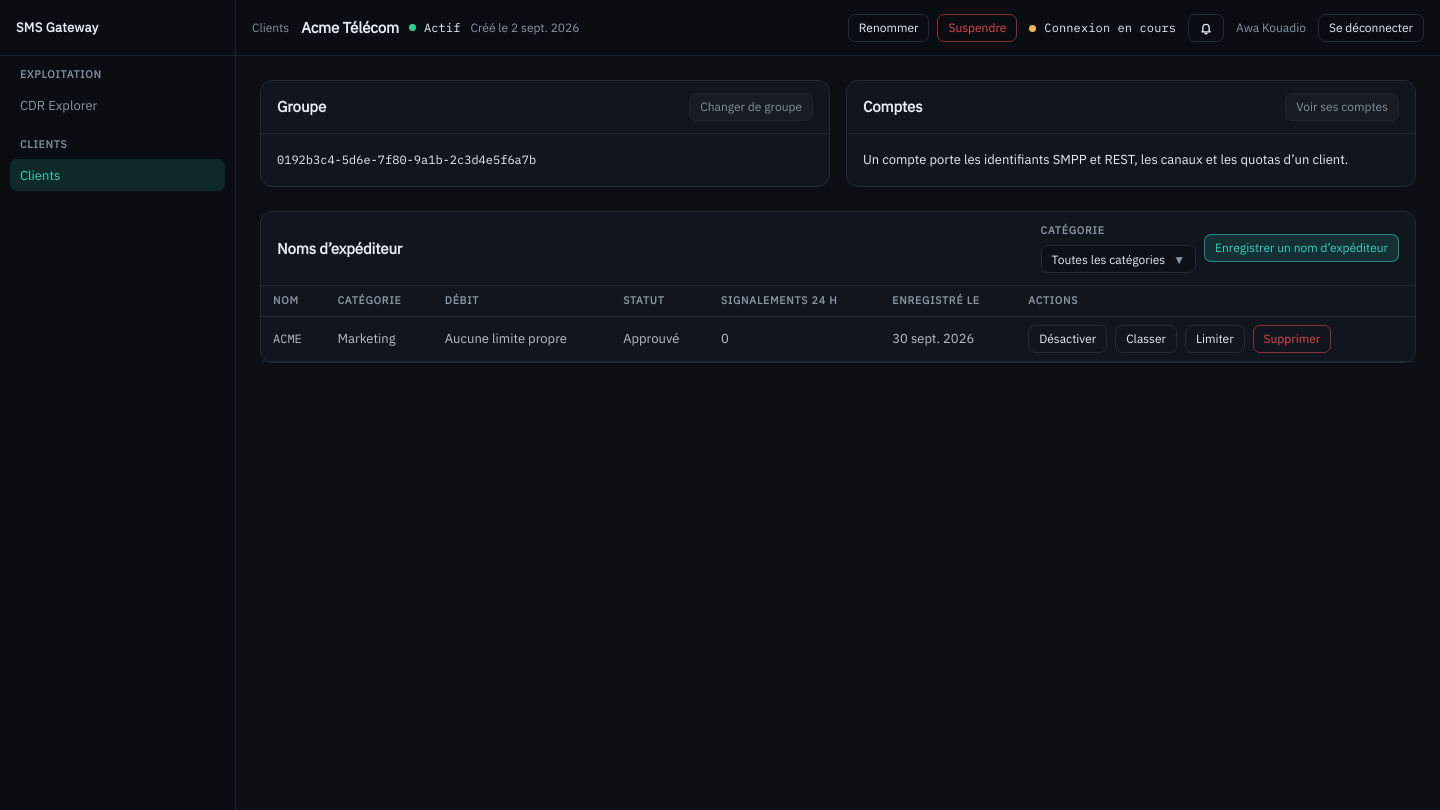
Test: the sender IDs of a customer › reclassifies a name only once the consequence is confirmed
Click the button with aria-label "Classer ACME" at (1146,339), box [1115,325,1177,353]
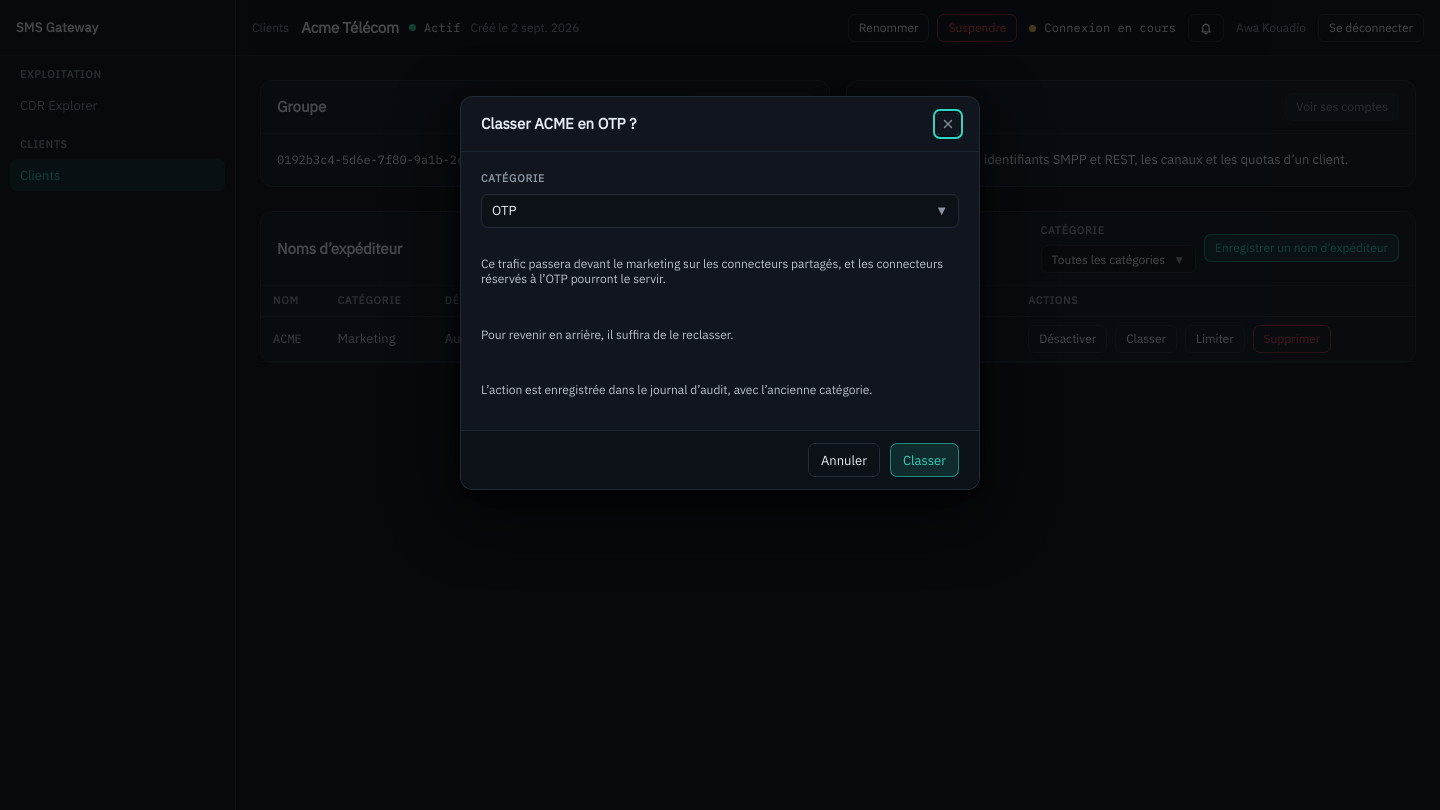
Check: the dialog "Classer ACME en OTP ?" shows "Ce trafic passera devant le marketing", box [481,256,943,286]
Click the button "Classer" at (924,460), box [890,443,959,477]
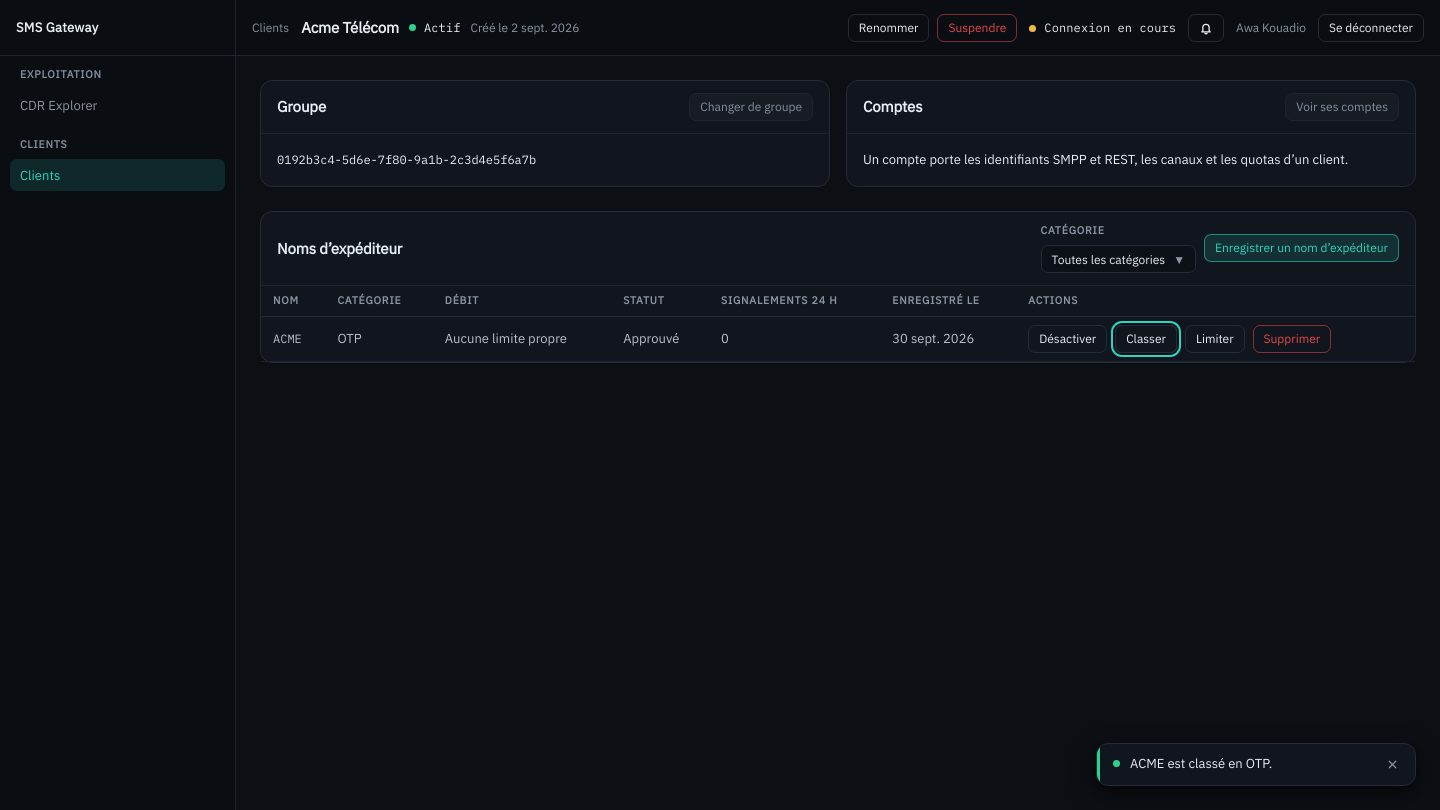
Check: the heading "ACME est classé en OTP." is shown, box [1130,754,1272,774]
Check: the row "ACME" shows "OTP", box [337,330,362,347]
